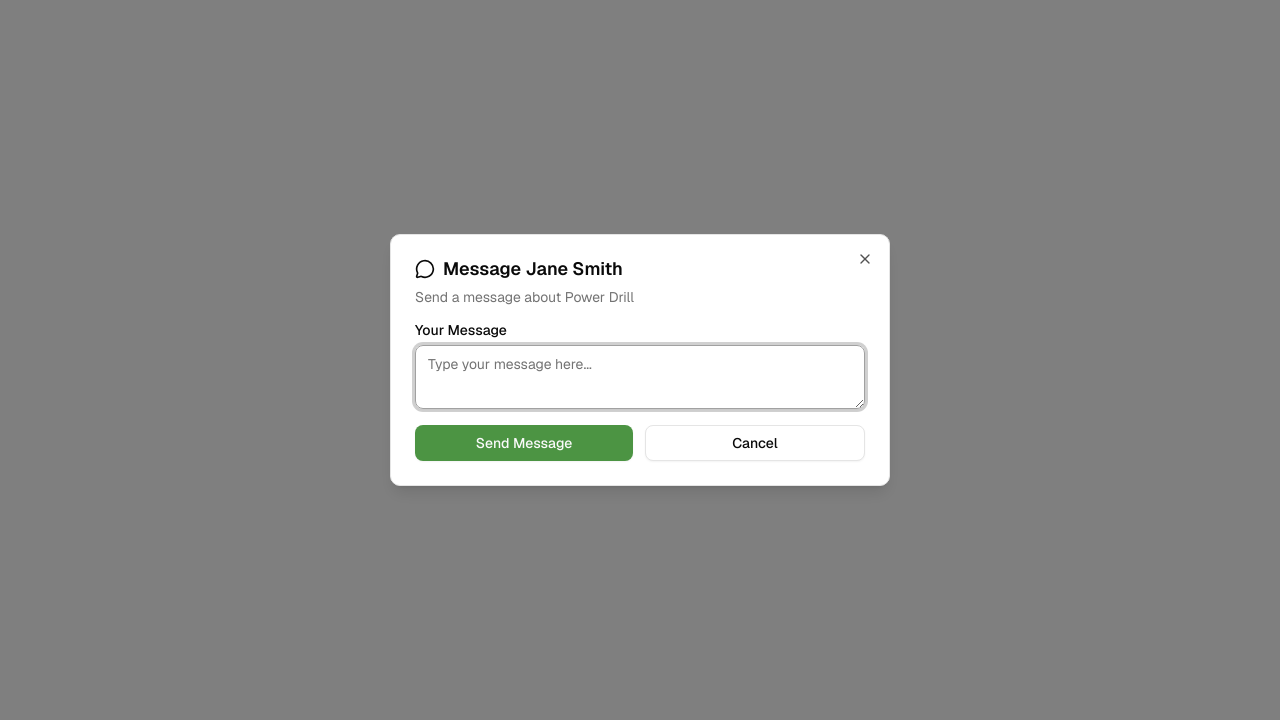
Test: MessageUserModal › should show validation error for empty message
The width and height of the screenshot is (1280, 720).
Click the button "Send Message".
click(524, 443)  # box [415,425,633,461]
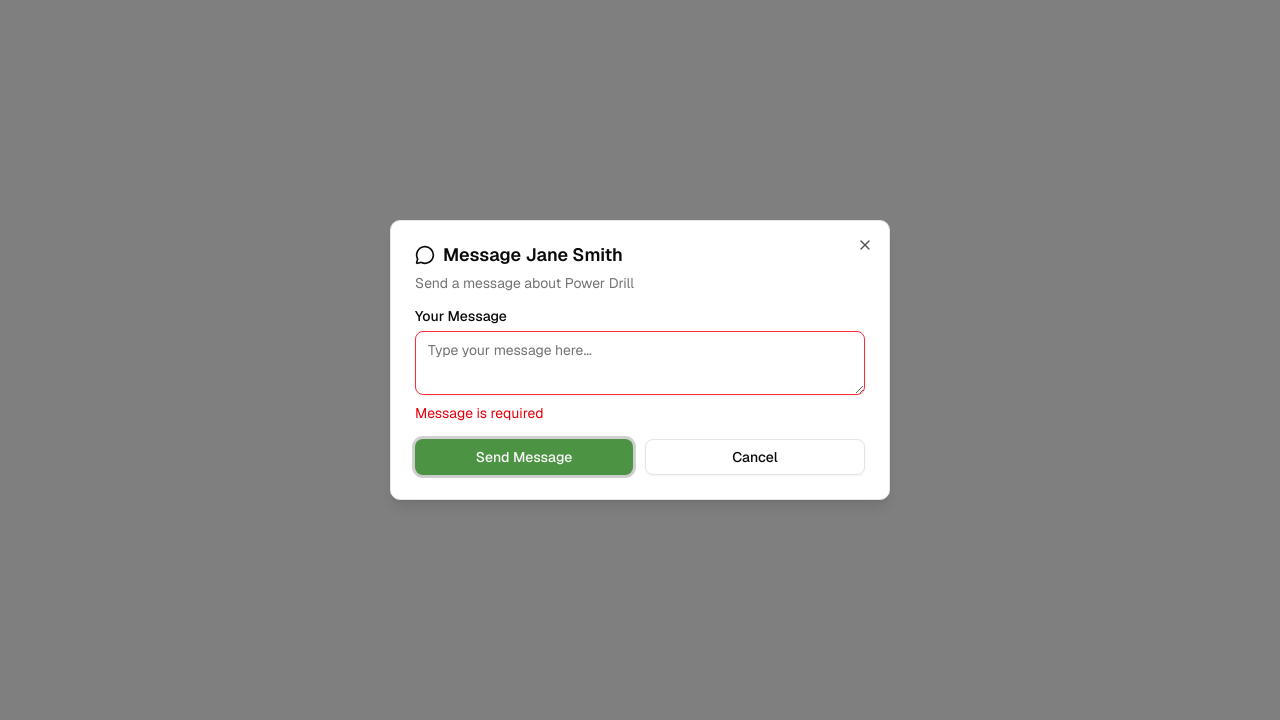
Expected: the text "Message is required" is shown, [415,404,544,422]
